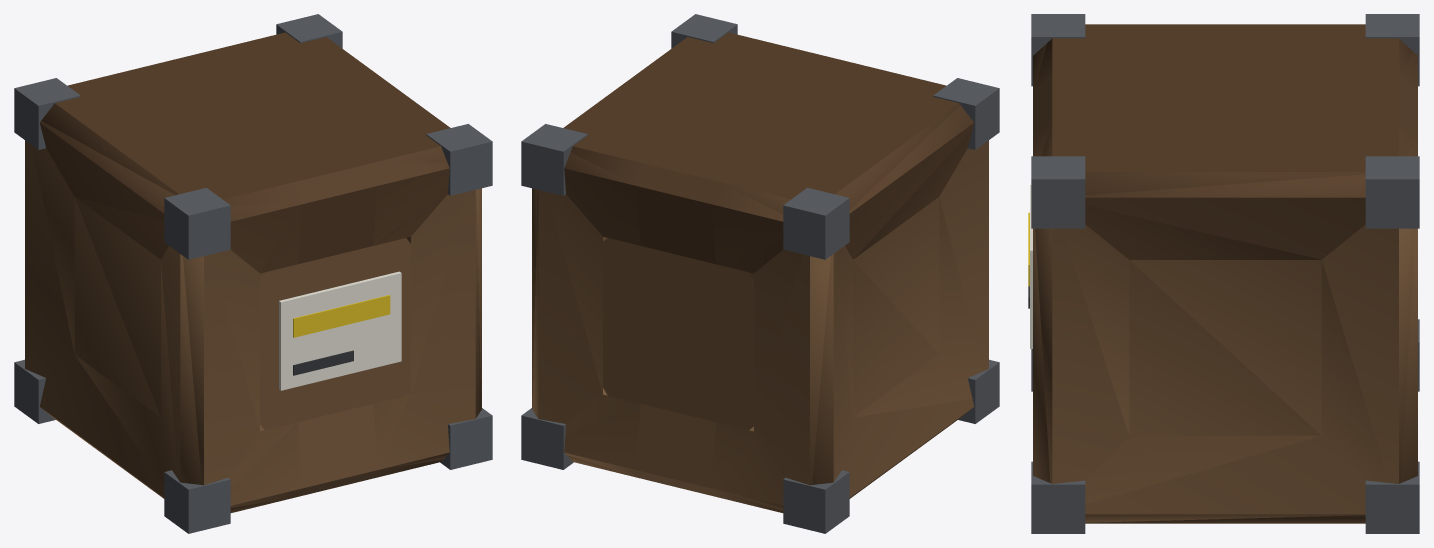
The picture shows the model from 3 angles, left to right: view 1: azimuth 30°, elevation 25°; view 2: azimuth 150°, elevation 25°; view 3: azimuth 270°, elevation 25°; orthographic projection. The views are drawn at different scales.
Parts seen in each view (by area): view 1: box; view 2: box; view 3: box.
Boxes of the visible parts, x1,y1,x2,y2 form: box: (14, 14, 492, 533); box: (521, 14, 999, 533); box: (1028, 14, 1419, 533).
Size of the model in its own units: 0.25 by 0.25 by 0.25.
